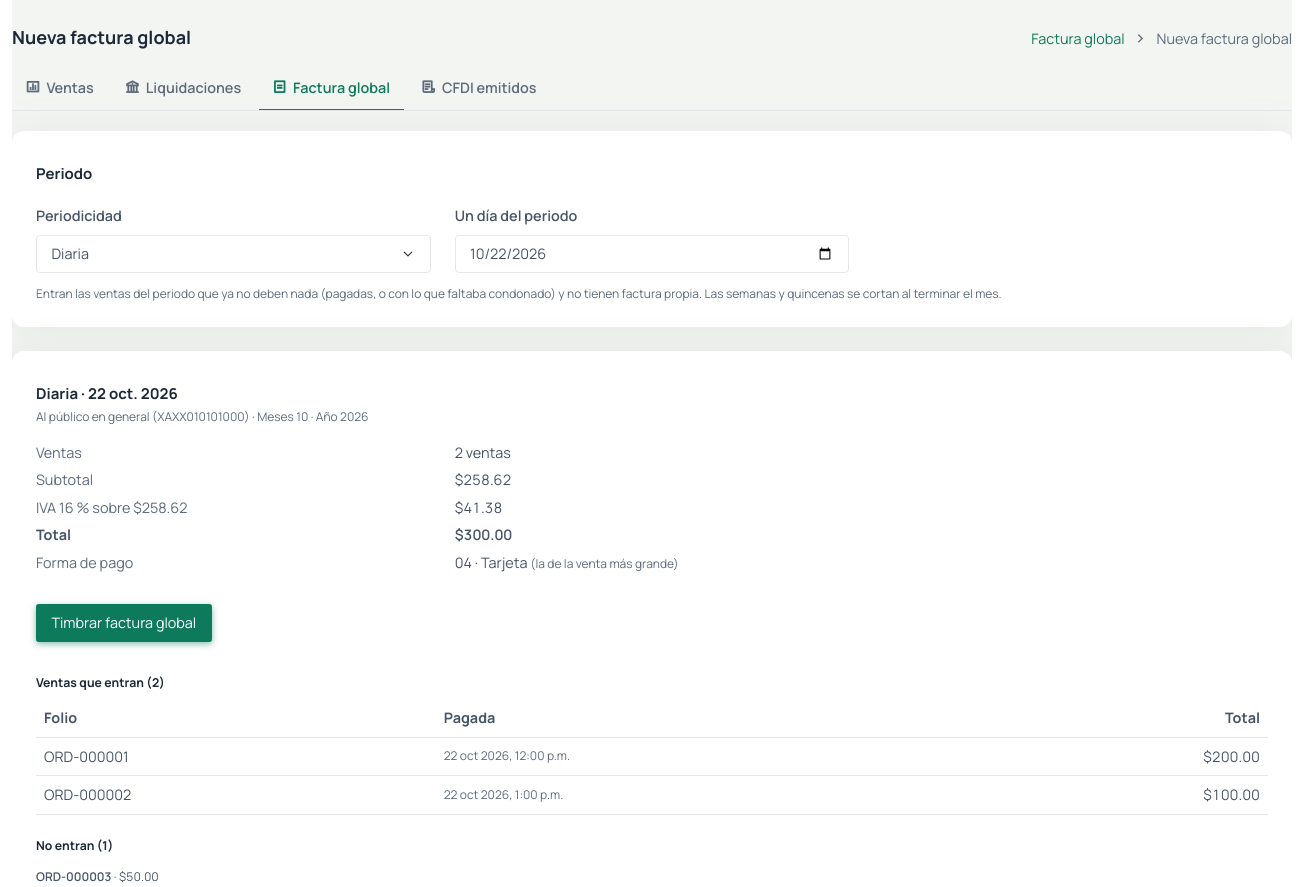
Test case: NewGlobalInvoice › stays on the preview, reads it again and says why when the sales changed meanwhile
This screenshot has width=1304, height=887.
Expected: the text "ORD-000002" is shown, [36, 776, 436, 814]
Click the button "Timbrar factura global". click: click(124, 622)
box: [36, 604, 212, 642]
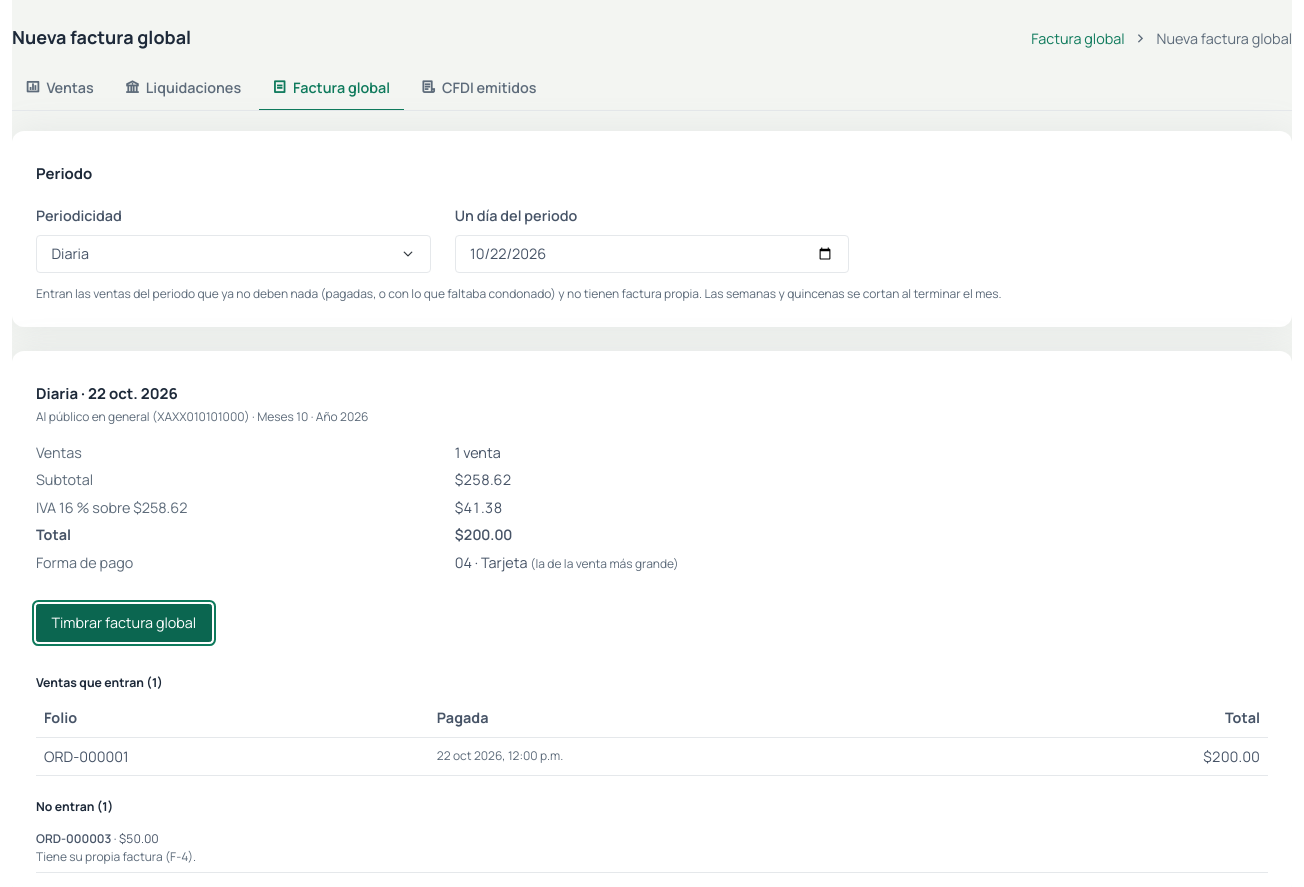
Result: the text "ORD-000002" is gone
Result: the text "1 venta" is shown at [455, 442, 501, 462]
